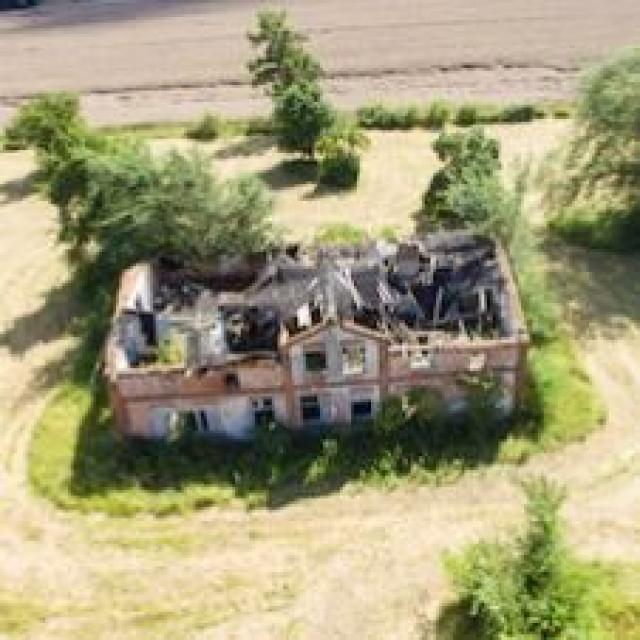collapsed_building: (102, 224, 513, 447)
